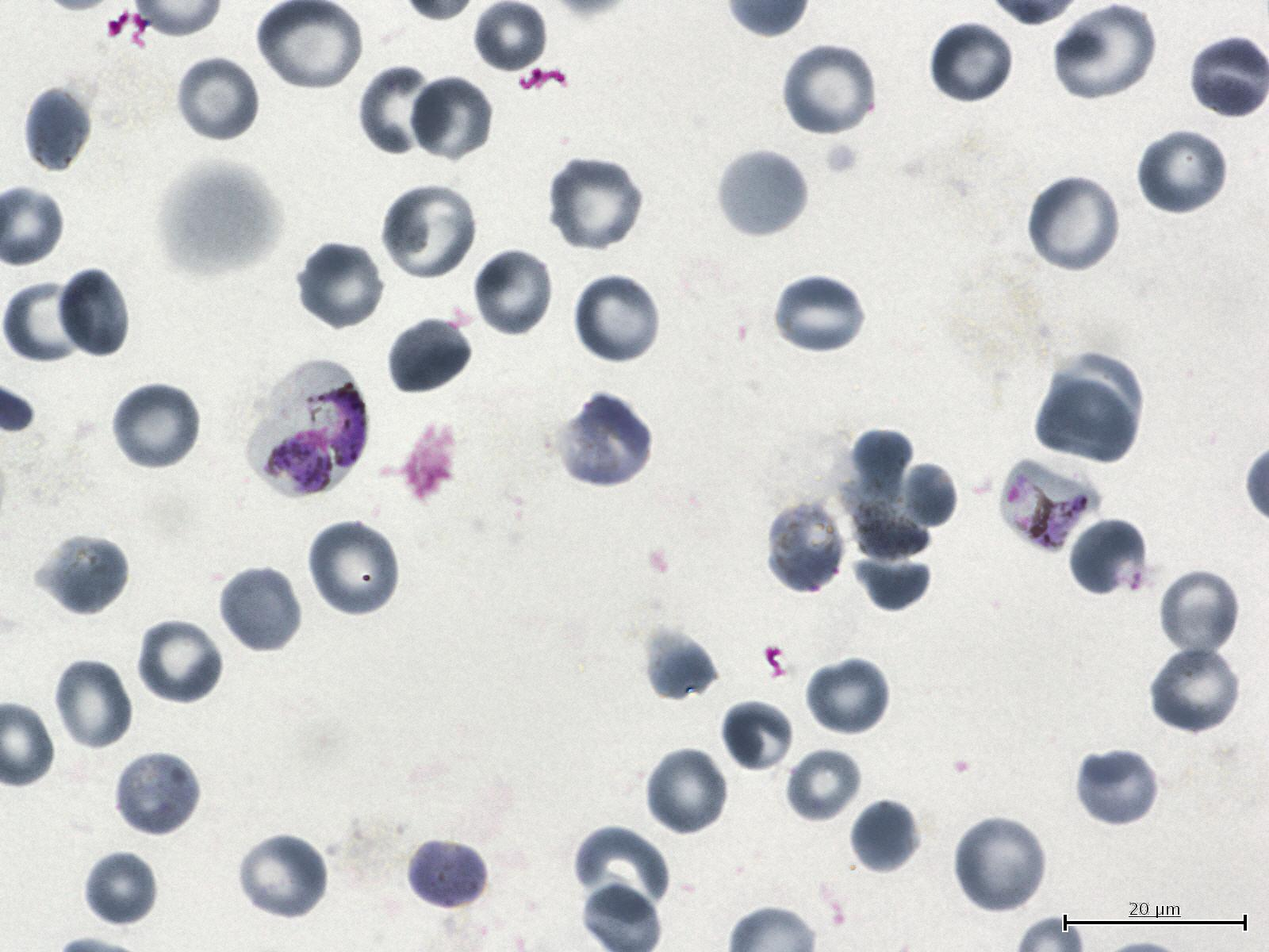Infected: (247, 359, 366, 498), (1002, 459, 1103, 557)
Uninfected: (1032, 363, 1140, 464), (1052, 4, 1156, 102), (260, 0, 366, 92), (381, 182, 478, 282), (308, 520, 403, 621), (1027, 175, 1122, 274), (557, 392, 653, 489), (953, 816, 1047, 915), (547, 157, 642, 253), (782, 43, 877, 137), (1149, 643, 1242, 736), (715, 147, 808, 238), (575, 825, 668, 916), (235, 831, 328, 921), (572, 272, 661, 366), (1136, 126, 1228, 216), (297, 240, 387, 332), (36, 531, 132, 616), (764, 500, 848, 597), (111, 381, 201, 471), (135, 616, 224, 706), (772, 273, 868, 356), (112, 749, 201, 838), (217, 564, 304, 654), (644, 746, 730, 836), (358, 62, 444, 152), (1156, 567, 1239, 660), (408, 75, 495, 163), (174, 55, 260, 144), (52, 658, 133, 751), (928, 21, 1014, 106), (472, 248, 554, 337), (19, 83, 97, 175), (56, 268, 133, 361), (804, 656, 891, 737), (385, 317, 473, 397), (1075, 747, 1159, 828), (7, 281, 92, 361), (1068, 516, 1149, 599), (469, 0, 553, 79), (404, 837, 489, 913), (783, 744, 862, 825), (719, 697, 797, 774), (849, 797, 924, 877), (82, 850, 159, 927), (845, 427, 910, 506), (645, 631, 716, 703), (853, 546, 931, 611), (850, 504, 928, 560), (901, 463, 955, 526)
